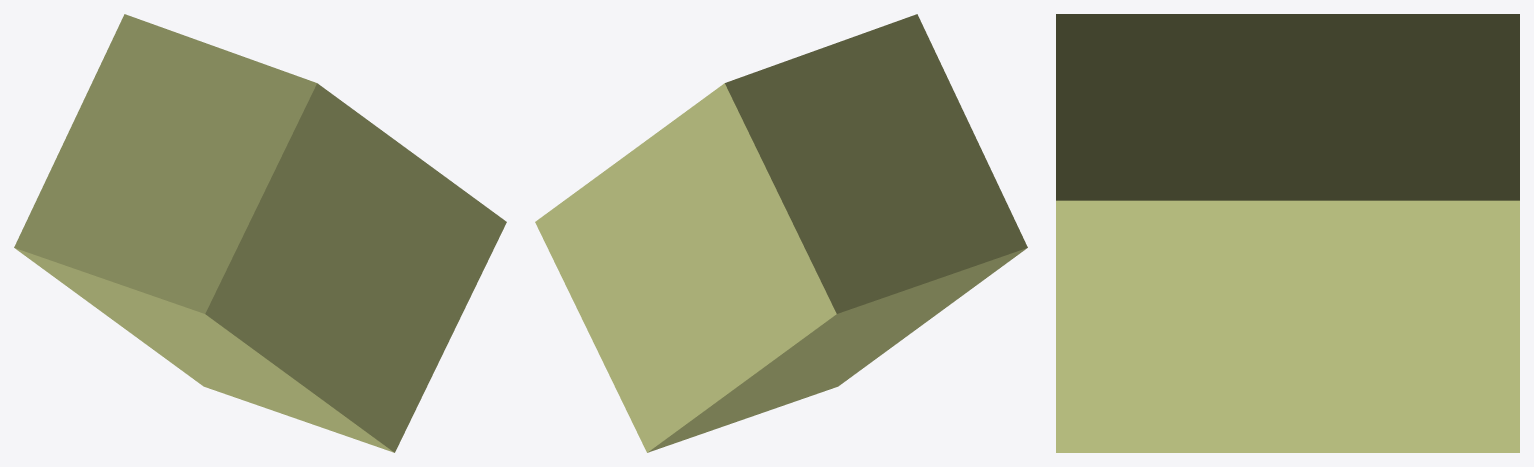
The picture shows the model from 3 angles, left to right: view 1: azimuth 30°, elevation 25°; view 2: azimuth 150°, elevation 25°; view 3: azimuth 270°, elevation 25°; orthographic projection. The views are drawn at different scales.
Parts seen in each view (by area): view 1: 0_1_0_2_0_0_3_0_1_0_2; view 2: 0_1_0_2_0_0_3_0_1_0_2; view 3: 0_1_0_2_0_0_3_0_1_0_2.
Boxes of the visible parts, x1,y1,x2,y2 form: 0_1_0_2_0_0_3_0_1_0_2: (14, 14, 506, 452); 0_1_0_2_0_0_3_0_1_0_2: (535, 14, 1027, 452); 0_1_0_2_0_0_3_0_1_0_2: (1056, 14, 1519, 452).
Size of the model in its own units: 8.31 by 8.37 by 9.
